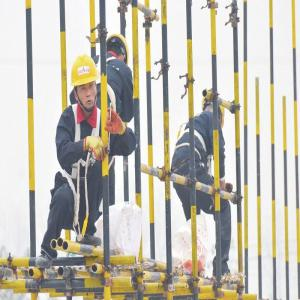yellow: (71, 54, 99, 113), (202, 87, 227, 129), (106, 32, 132, 69)
